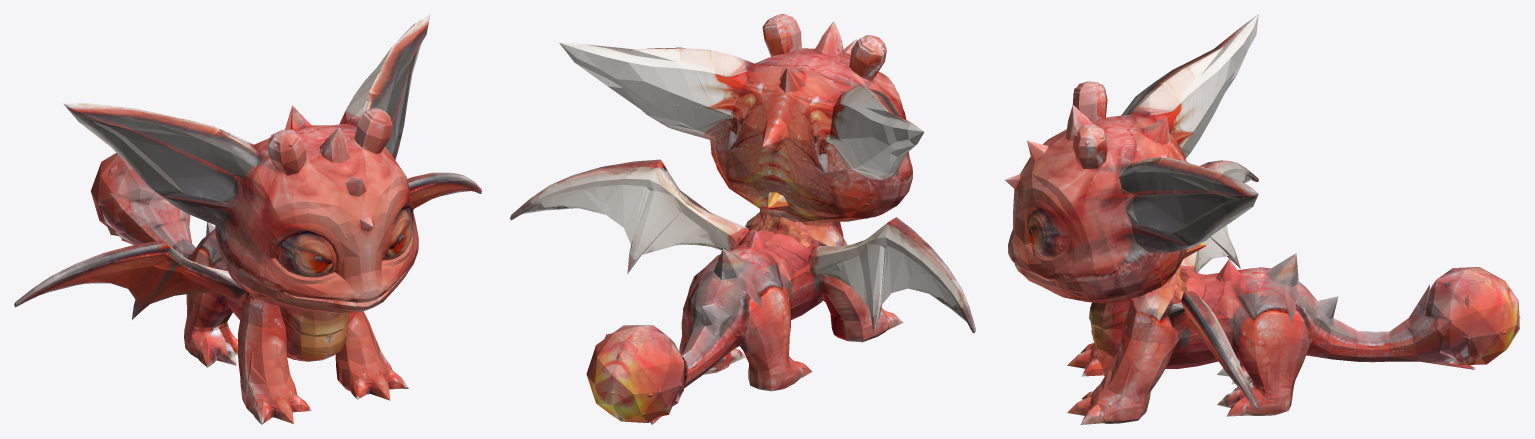
The model's file is dragon_fire.glb.
3 views of the same model, side by side, from view 1: azimuth 30°, elevation 25°; view 2: azimuth 150°, elevation 25°; view 3: azimuth 270°, elevation 25° (orthographic).
Bounding box in the file's own units: 1.8 × 1.05 × 1.71.
1 material, 1 textured.
